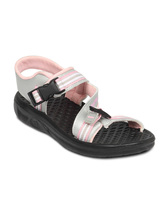shoes: (6, 52, 155, 158)
